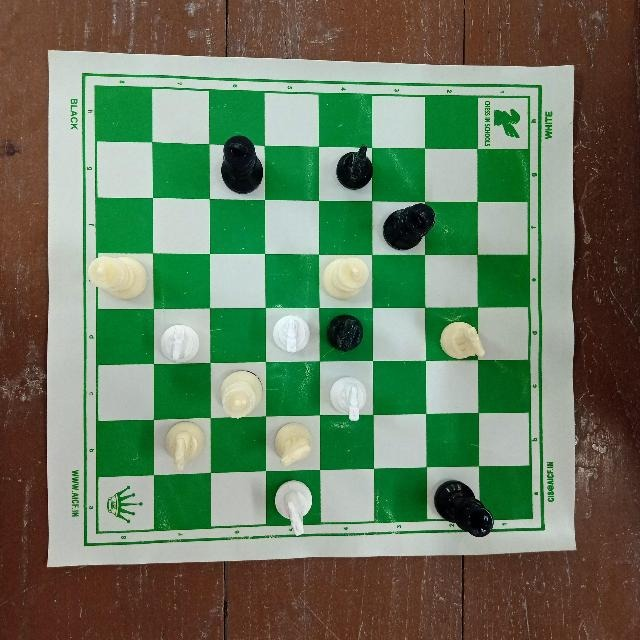black-king: (432, 477, 495, 543), (215, 134, 266, 196), (384, 202, 436, 254)
black-knight: (335, 140, 375, 195), (321, 312, 367, 352)
white-king: (84, 254, 150, 302), (317, 253, 371, 305)
white-knight: (266, 476, 318, 538), (158, 418, 209, 472), (270, 418, 322, 467), (325, 371, 371, 424), (156, 319, 204, 369), (438, 315, 487, 363), (268, 311, 313, 355)
white-queen: (217, 364, 267, 424)
